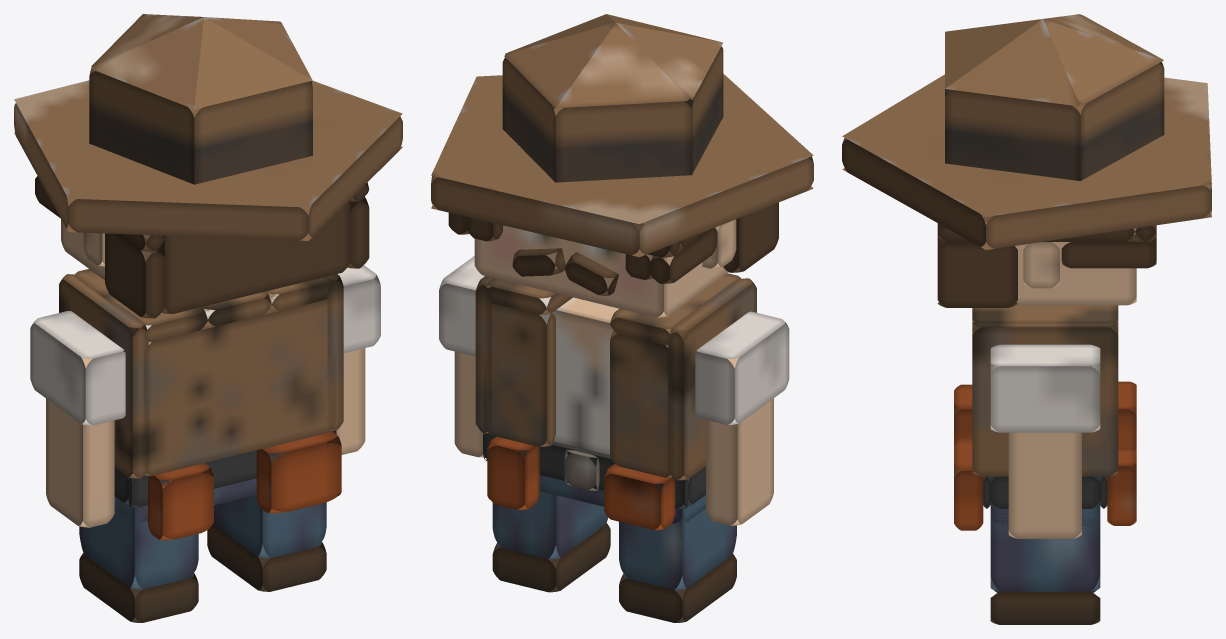
Rendered from player.obj.
3 renders of one model, left to right at view 1: azimuth 30°, elevation 25°; view 2: azimuth 150°, elevation 25°; view 3: azimuth 270°, elevation 25°, orthographic.
Parts seen in each view (by area): view 1: hat bottom, hat top, back, front right, belt pouch left, shirt arm right, left, right, arm right, leg right, leg left, shoe right (+10 smaller); view 2: hat bottom, hat top, front right, front left, head, shirt arm right, body top, right, arm right, left, leg right, leg left (+14 smaller); view 3: hat bottom, hat top, left, shirt arm left, arm left, leg left, belt pouch left, head, shoe left, top left, ear left, belt pouch right (+2 smaller).
Part boxes in pixels (x1,y1,x2,y2): hat bottom: (14, 80, 402, 240); hat top: (89, 14, 312, 184); back: (144, 299, 335, 475); front right: (157, 200, 349, 313); belt pouch left: (148, 431, 341, 539); shirt arm right: (30, 311, 125, 425); left: (35, 176, 369, 430); right: (59, 234, 164, 478); arm right: (46, 357, 114, 527); leg right: (79, 497, 198, 589); leg left: (213, 495, 326, 558); shoe right: (79, 553, 198, 622); hat bottom: (431, 74, 813, 257); hat top: (502, 14, 723, 182); front right: (467, 217, 680, 477); front left: (483, 303, 555, 446); head: (474, 222, 728, 317); shirt arm right: (695, 311, 789, 424); body top: (539, 297, 669, 455); right: (668, 229, 756, 480); arm right: (706, 357, 773, 525); left: (448, 202, 778, 433); leg right: (619, 509, 736, 589); leg left: (492, 475, 608, 559); hat bottom: (842, 74, 1211, 249); hat top: (945, 14, 1164, 180); left: (937, 215, 1156, 476); shirt arm left: (990, 344, 1100, 432); arm left: (1008, 432, 1081, 538); leg left: (990, 476, 1100, 591); belt pouch left: (954, 384, 1136, 530); head: (1015, 228, 1136, 305); shoe left: (990, 582, 1100, 624); top left: (972, 305, 1118, 333); ear left: (1023, 242, 1059, 288); belt pouch right: (1118, 381, 1136, 451).
Size of the model in its own units: 0.6612 by 1.06 by 0.6324.
1 material, 1 textured.
